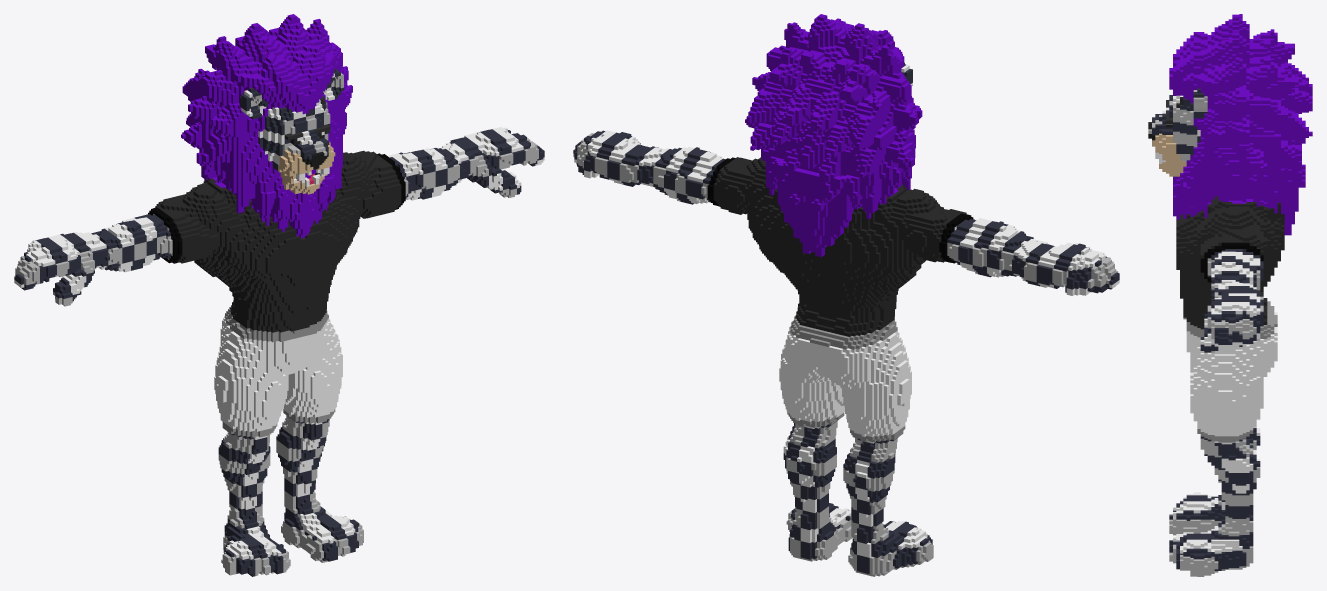
3 renders of one model, left to right at view 1: azimuth 30°, elevation 25°; view 2: azimuth 150°, elevation 25°; view 3: azimuth 270°, elevation 25°, orthographic. The views are drawn at different scales.
Parts seen in each view (by area): view 1: open; view 2: open; view 3: open.
Boxes of the visible parts, x1=… form: open: x1=14, y1=14, x2=544, y2=576; open: x1=573, y1=14, x2=1119, y2=576; open: x1=1148, y1=14, x2=1312, y2=576.
Size of the model in its own units: 17.2 by 16.5 by 4.7.
Materials: 5 (5 with a texture image).
